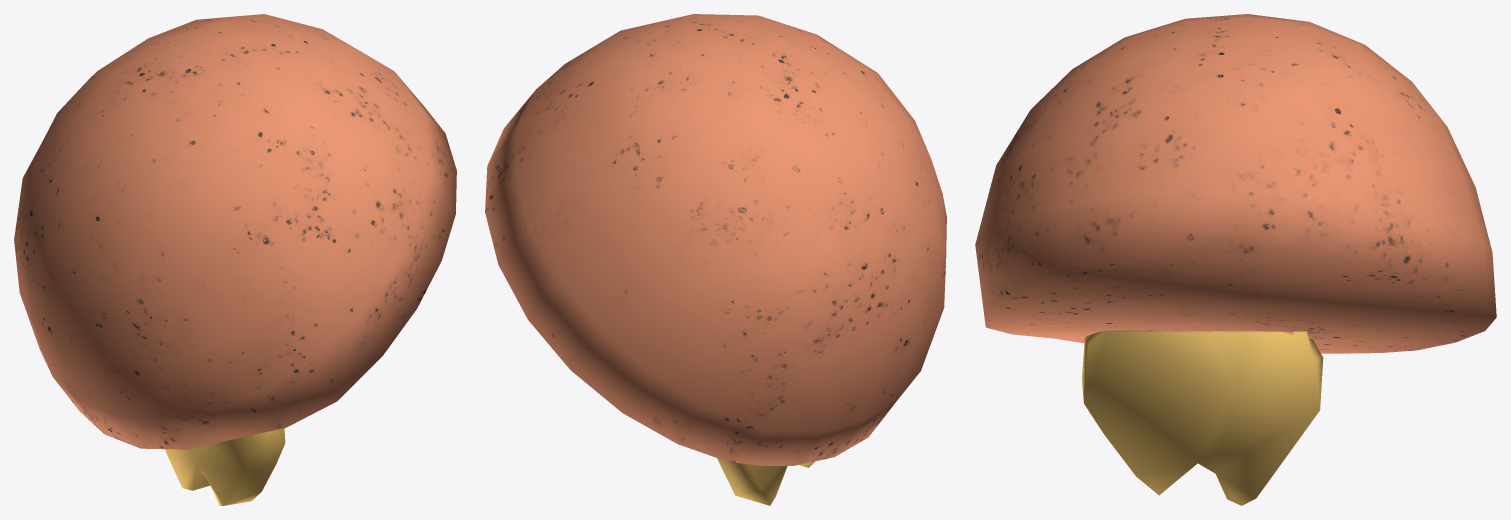
3 views of the same model, side by side, from view 1: azimuth 30°, elevation 25°; view 2: azimuth 150°, elevation 25°; view 3: azimuth 270°, elevation 25° (orthographic). The views are drawn at different scales.
Parts seen in each view (by area): view 1: tripo_part_1, tripo_part_0; view 2: tripo_part_1, tripo_part_0; view 3: tripo_part_1, tripo_part_0.
Part boxes in pixels (x1,y1,x2,y2): tripo_part_1: [14, 14, 456, 449]; tripo_part_0: [165, 428, 285, 505]; tripo_part_1: [485, 14, 946, 465]; tripo_part_0: [717, 458, 814, 505]; tripo_part_1: [975, 14, 1496, 353]; tripo_part_0: [1082, 330, 1323, 505].
Size of the model in its own units: 0.8943 by 1 by 0.9765.
2 materials, 2 textured.
